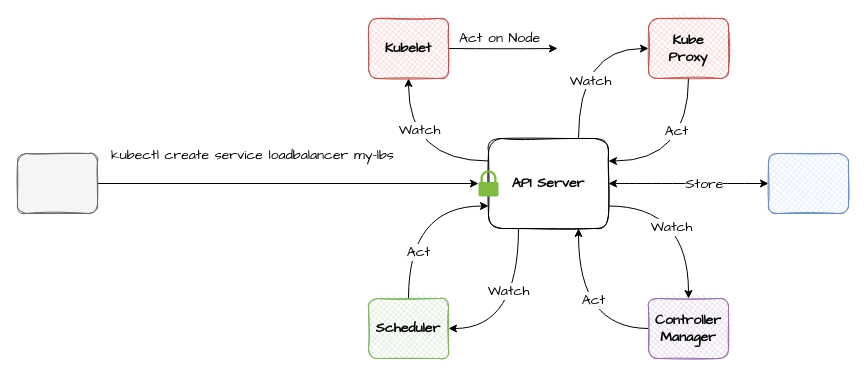
Image size: 866x376. Some labels were removed from this diagram. The shapes that lost their labels are listed below. From the top down, each one's centre as x and y in pixels, then its label:
[57,183]: Kubectl
[808,183]: ETCD
